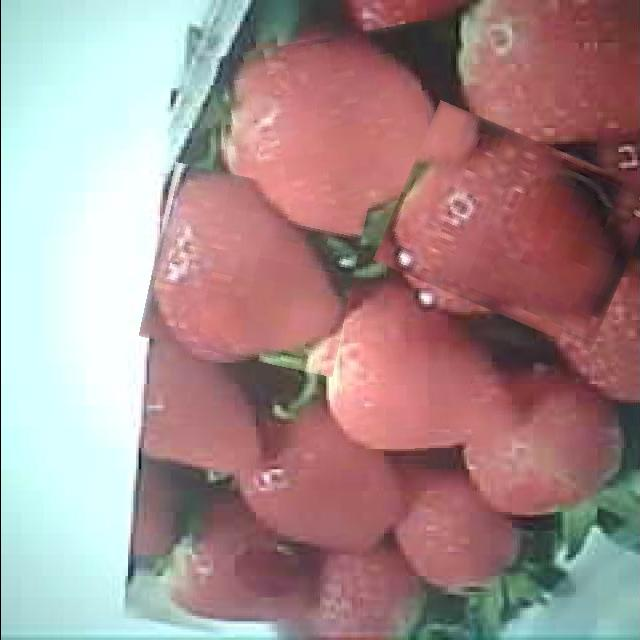strawberry: (385, 119, 640, 332), (215, 29, 456, 226), (146, 171, 360, 367), (320, 291, 507, 451)
